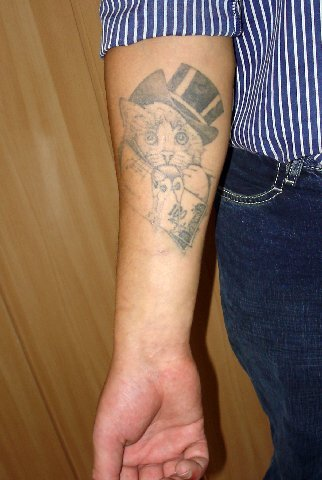tatu8_kot: (110, 64, 227, 253)
